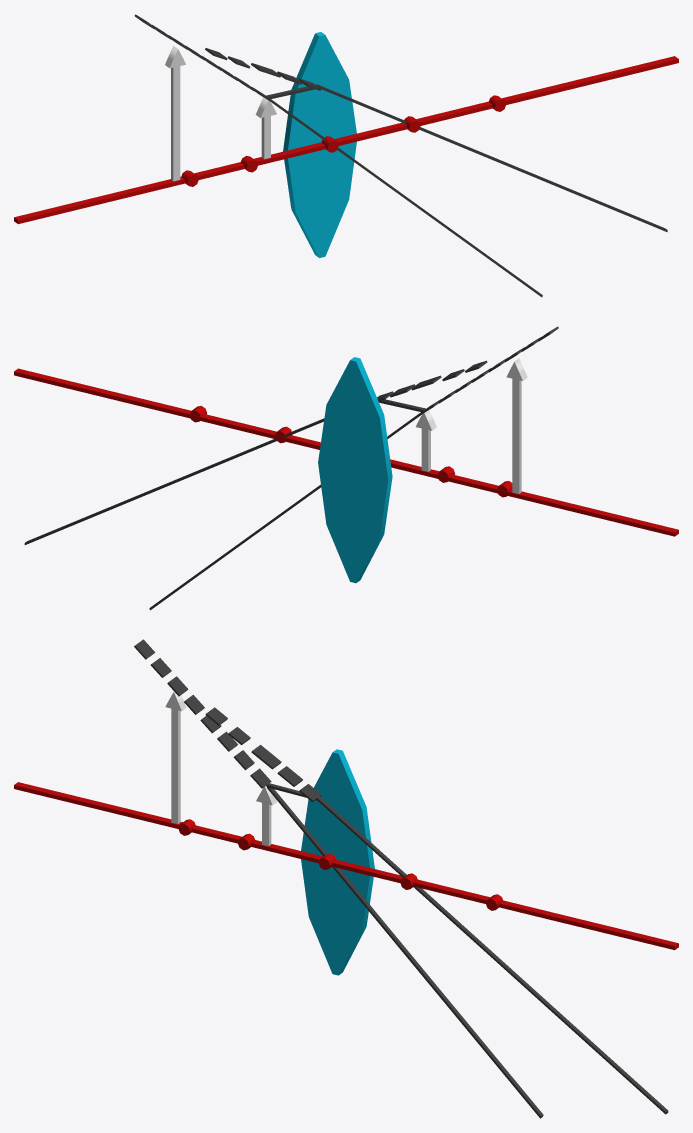
File: last6.fbx
3 renders of one model, top to bottom at view 1: azimuth 30°, elevation 25°; view 2: azimuth 150°, elevation 25°; view 3: azimuth 330°, elevation 25°, orthographic.
Visible parts, largest first — view 1: case6; view 2: case6; view 3: case6.
Part boxes in pixels (x1,y1,x2,y2): case6: (14,14,678,297); case6: (14,326,678,610); case6: (14,639,678,1118).
Size of the model in its own units: 33.83 by 18.48 by 1.36.
